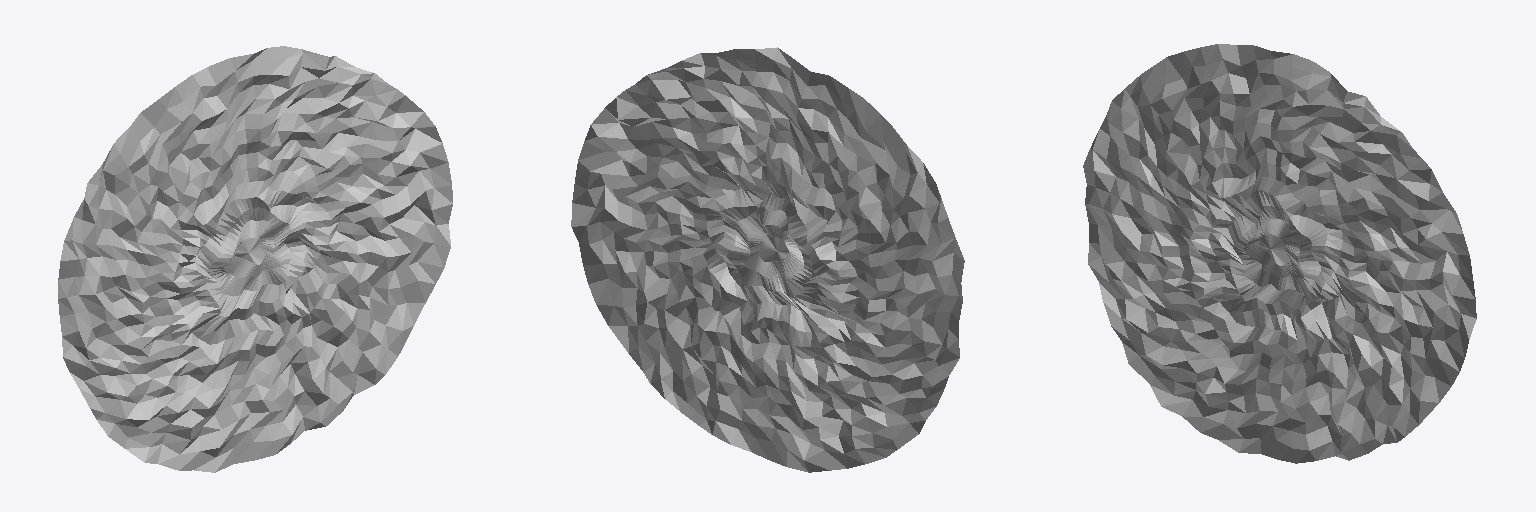
Rendered from plant_ground.obj.
3 renders of one model, left to right at view 1: azimuth 30°, elevation 25°; view 2: azimuth 150°, elevation 25°; view 3: azimuth 330°, elevation 25°, orthographic.
Visible parts, largest first — view 1: plant_b; view 2: plant_b; view 3: plant_b.
Boxes of the visible parts, x1=… form: plant_b: x1=58, y1=46, x2=452, y2=472; plant_b: x1=571, y1=47, x2=964, y2=472; plant_b: x1=1083, y1=44, x2=1476, y2=463.
Bounding box in the file's own units: 34.31 × 34.53 × 1.65.